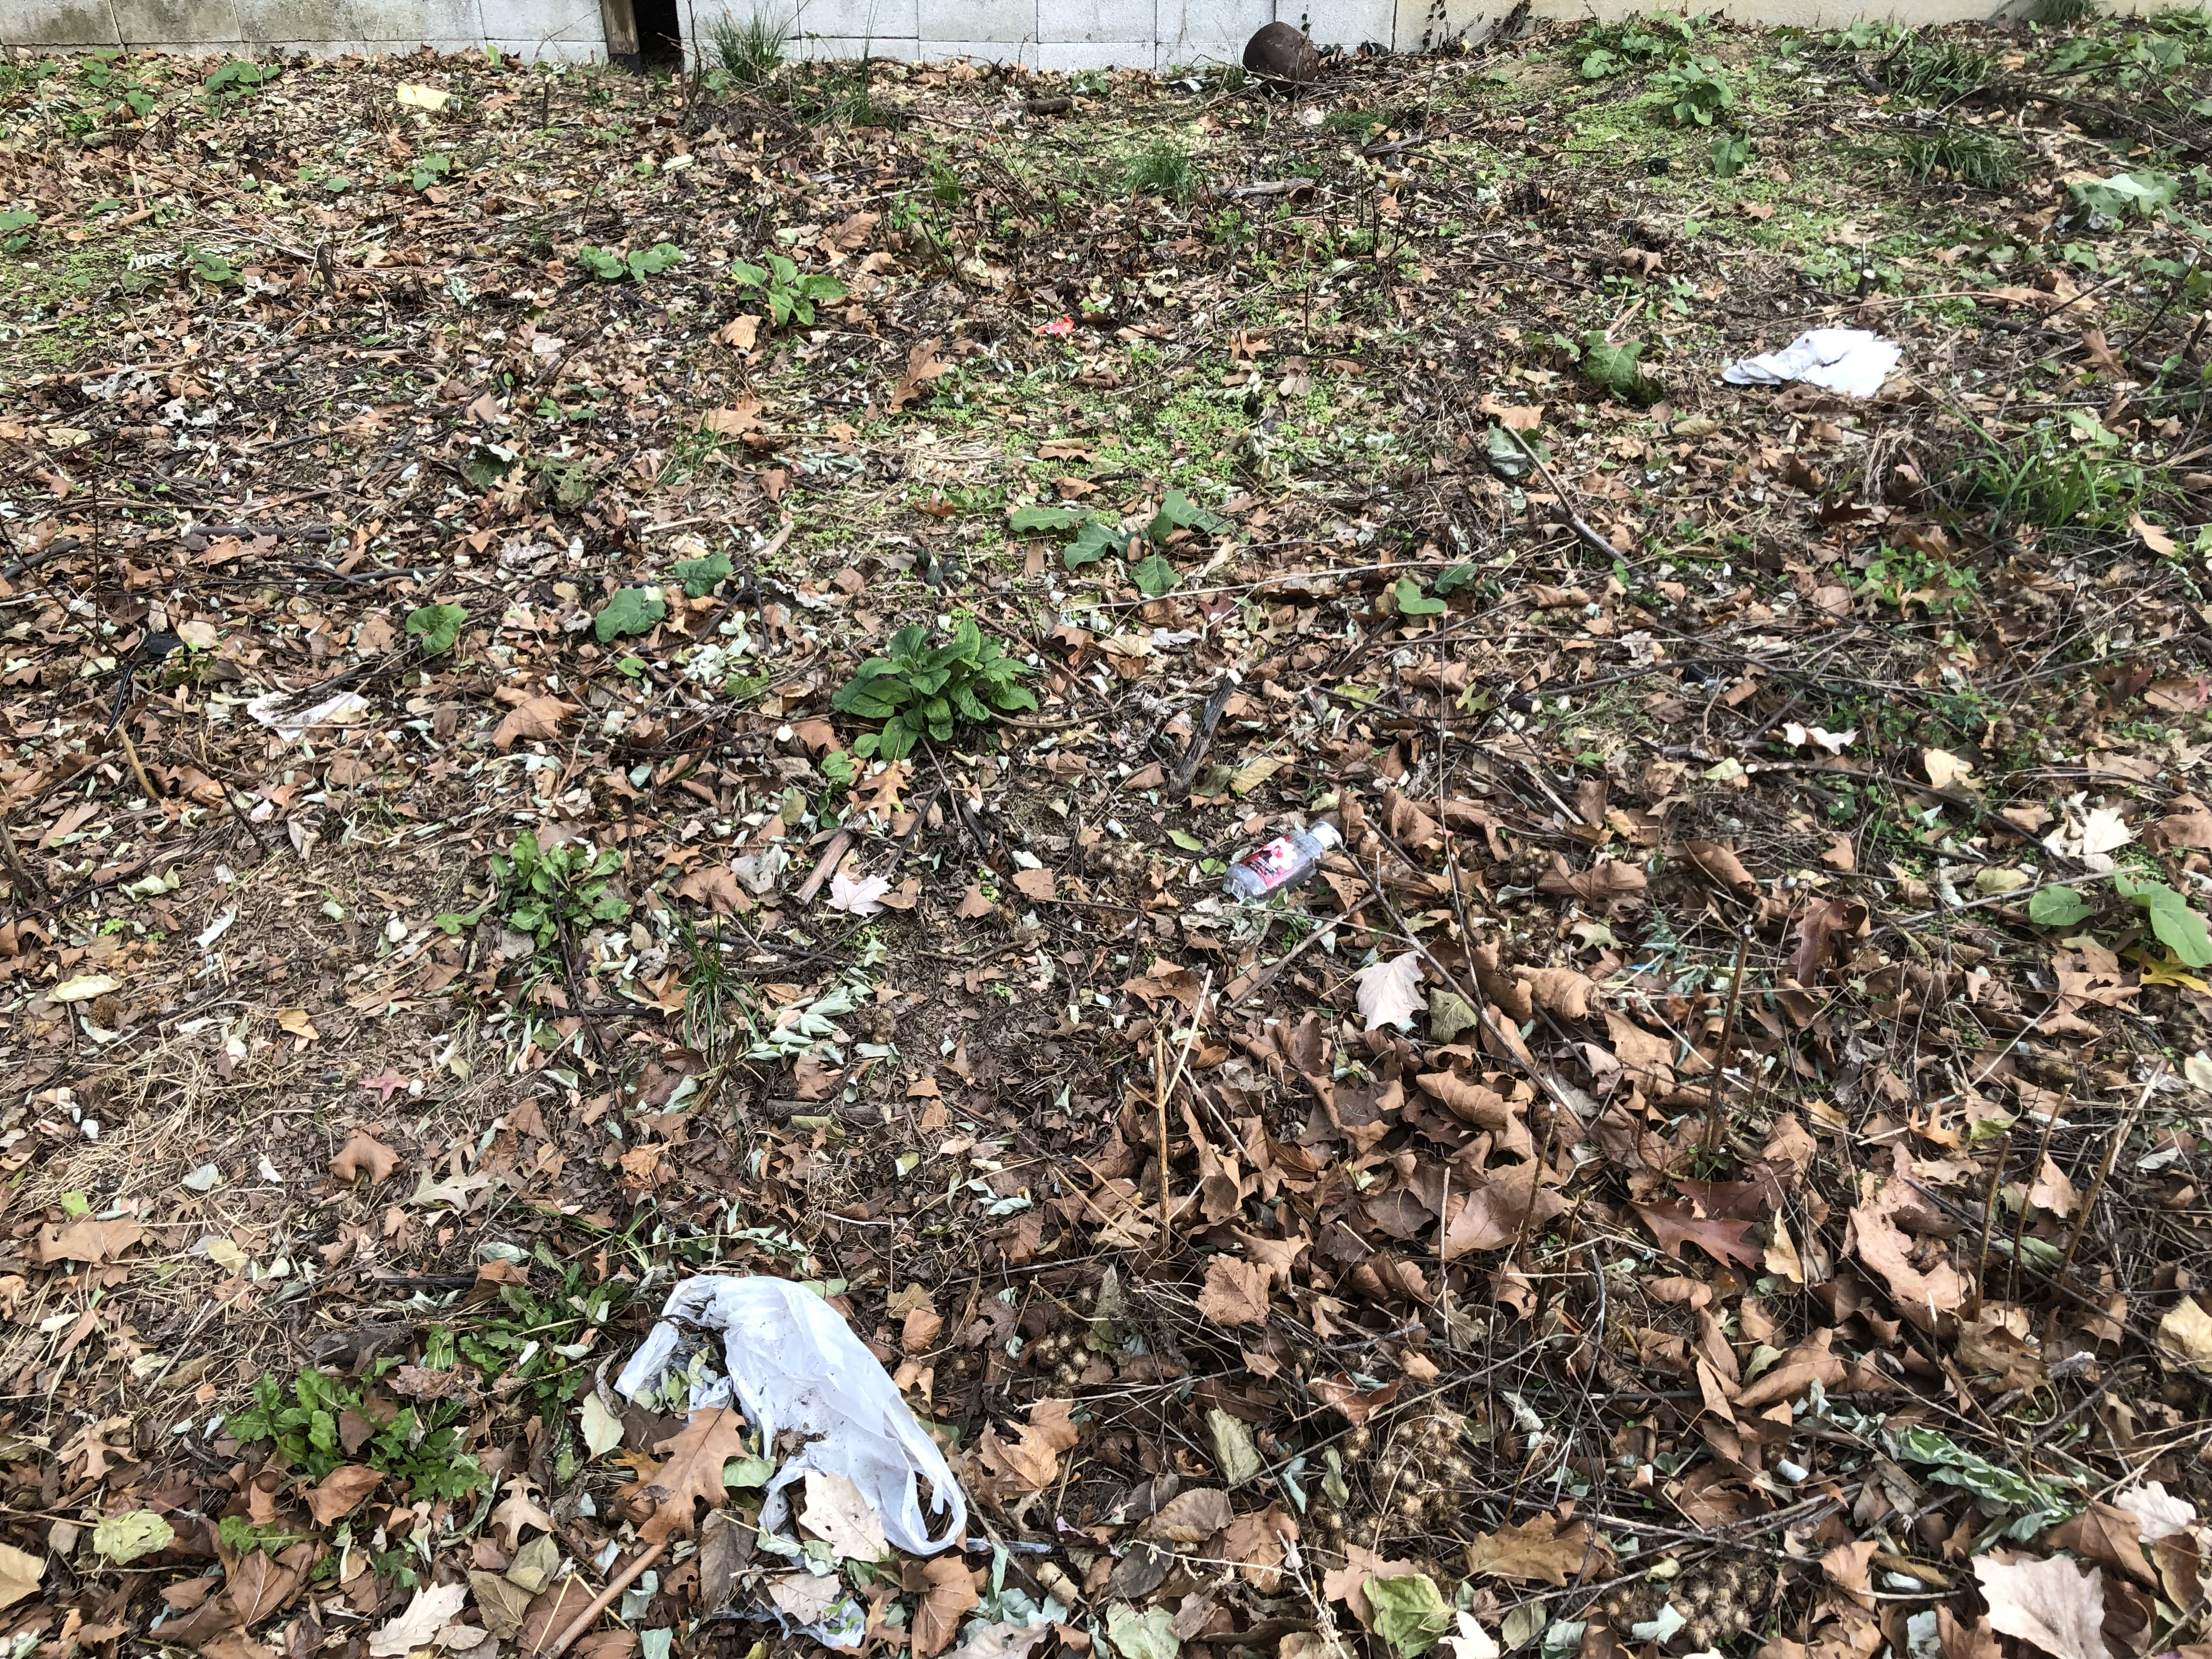good_lawn: (38, 153, 1730, 1283)
trash: (594, 1260, 986, 1605), (1712, 291, 1914, 418)
